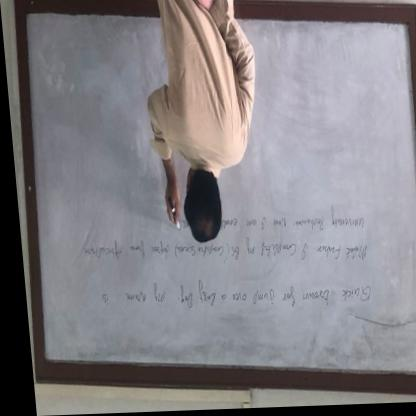Handwritten text: (91, 277, 371, 319), (70, 237, 370, 274), (230, 203, 364, 239)
Lecturer: (141, 0, 269, 249)
